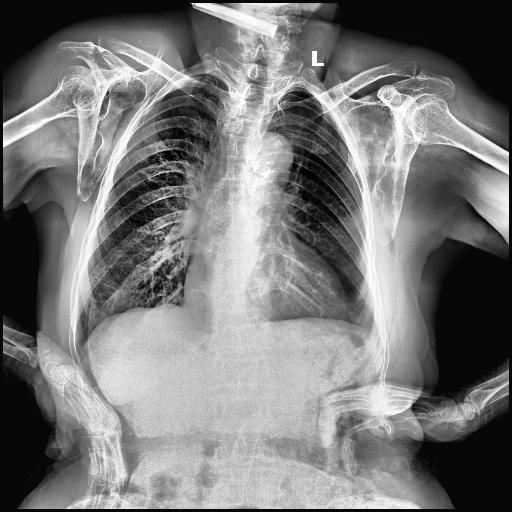0- Aortic enlargement: (244, 128, 296, 183), (255, 128, 294, 182), (252, 131, 290, 172)
11- Pleural thickening: (279, 90, 319, 104)
3- Cardiomegaly: (184, 272, 352, 325), (184, 263, 348, 317), (184, 266, 346, 318)
9- Other lesion: (297, 128, 339, 154)
